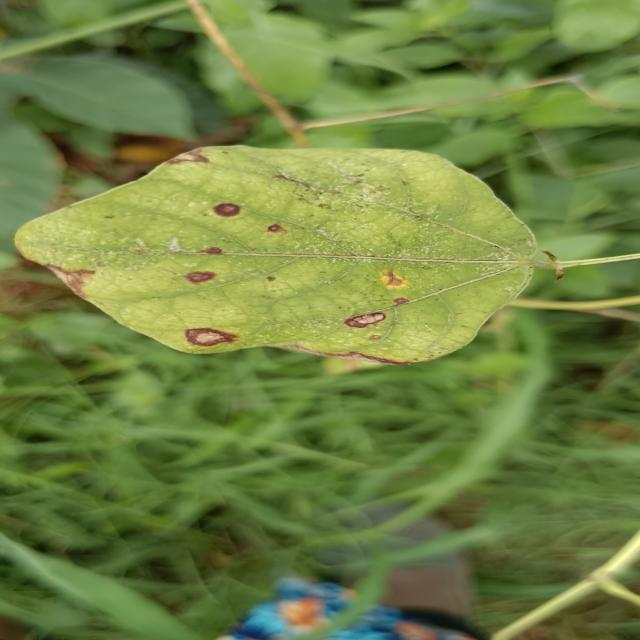Dolicos bean_cercospora leaf spot: (8, 143, 537, 363)
